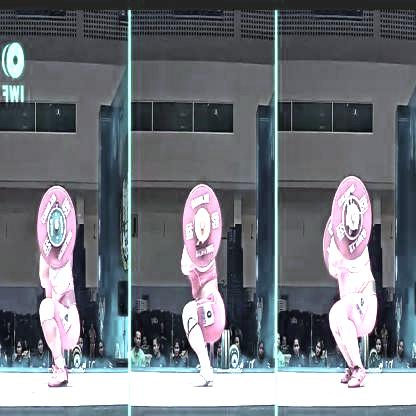Barbell: (50, 217, 59, 237), (198, 217, 204, 235), (348, 211, 355, 225)
